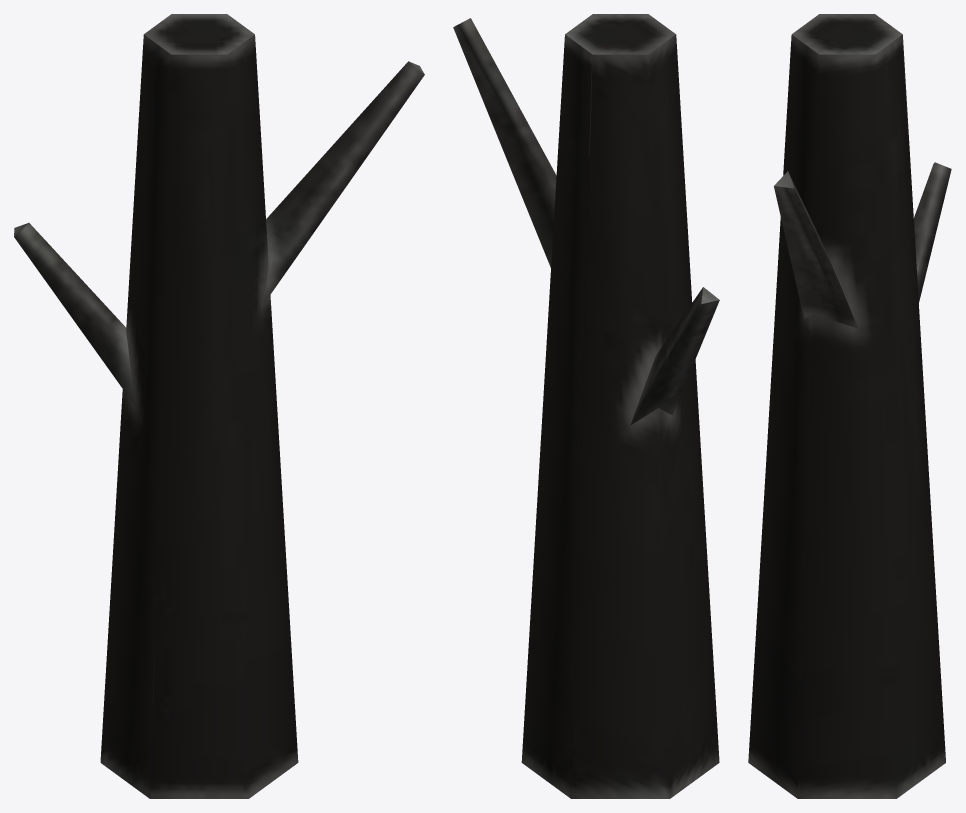
Rendered from charred_tree_0.glb.
3 views of the same model, side by side, from view 1: azimuth 30°, elevation 25°; view 2: azimuth 150°, elevation 25°; view 3: azimuth 270°, elevation 25° (orthographic).
Visible parts, largest first — view 1: te_prop_charred_tree_0; view 2: te_prop_charred_tree_0; view 3: te_prop_charred_tree_0.
Boxes of the visible parts, x1,y1,x2,y2 form: te_prop_charred_tree_0: [14, 14, 424, 798]; te_prop_charred_tree_0: [453, 14, 719, 798]; te_prop_charred_tree_0: [748, 14, 951, 798].
Size of the model in its own units: 0.1256 by 0.26 by 0.0658.
Materials: 1 (1 with a texture image).
